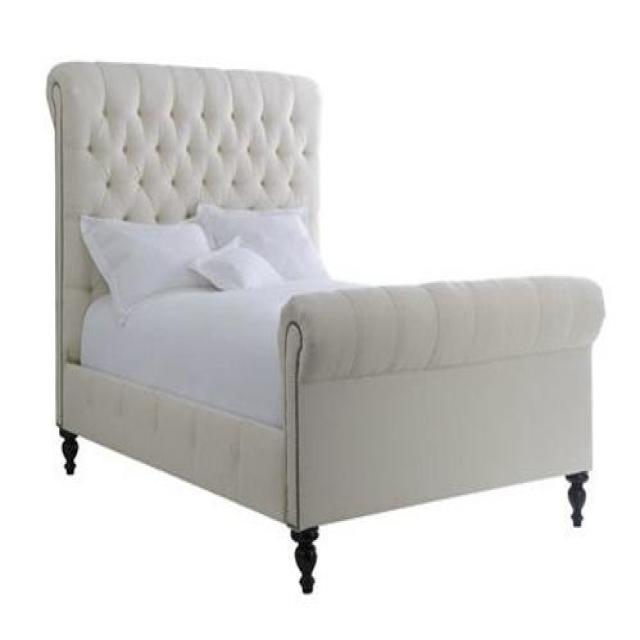bed: (47, 61, 606, 595)
